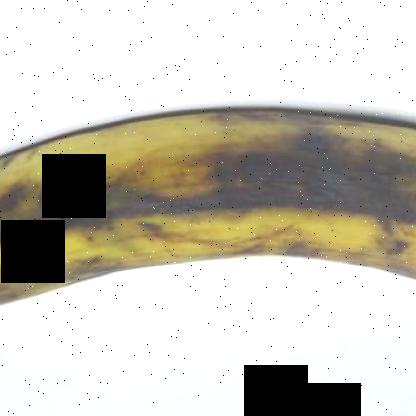overripe: (0, 71, 415, 347)
